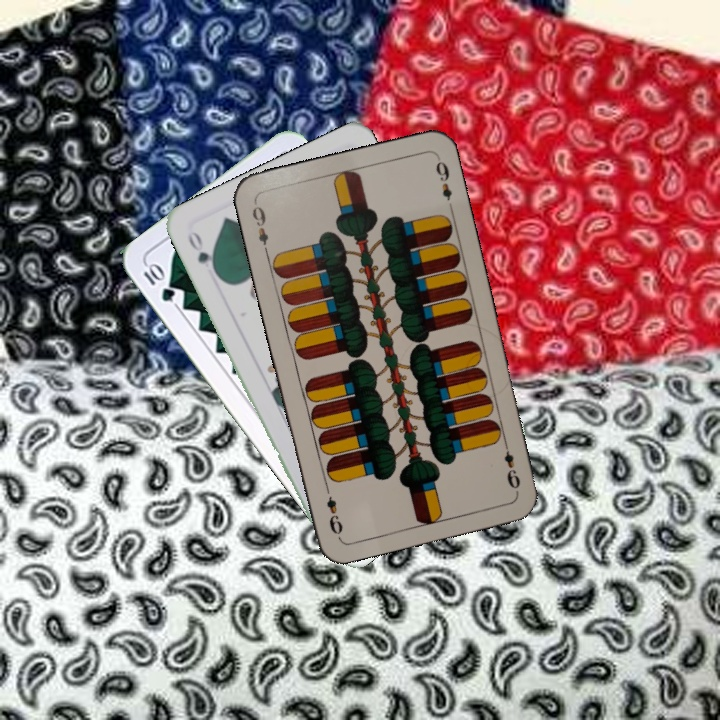E9: (499, 436, 523, 495), (248, 198, 271, 257)
G10: (139, 258, 178, 305)
GO: (183, 226, 221, 279)
